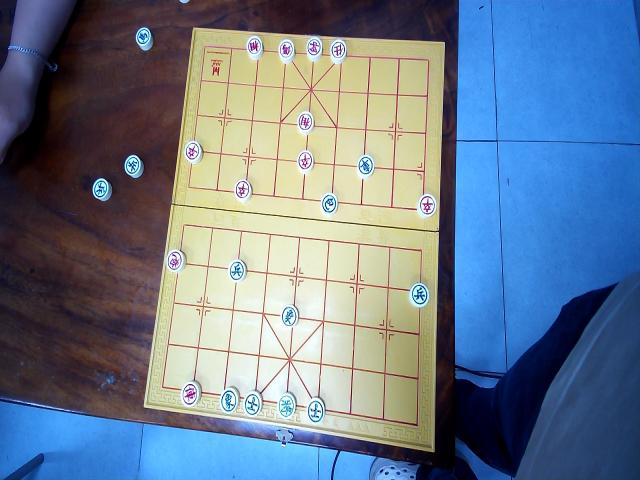piece: (181, 380, 201, 408), (242, 389, 262, 416), (410, 282, 430, 308), (166, 247, 186, 272), (416, 193, 436, 218), (134, 26, 154, 51), (220, 387, 238, 414), (278, 392, 296, 419), (307, 397, 325, 423), (329, 38, 347, 63), (228, 257, 246, 282), (246, 35, 264, 60), (234, 178, 252, 202), (184, 139, 202, 163), (356, 154, 374, 178), (278, 38, 295, 63), (296, 110, 314, 133), (280, 304, 298, 327), (320, 192, 337, 216), (306, 36, 322, 61), (297, 150, 313, 173)
